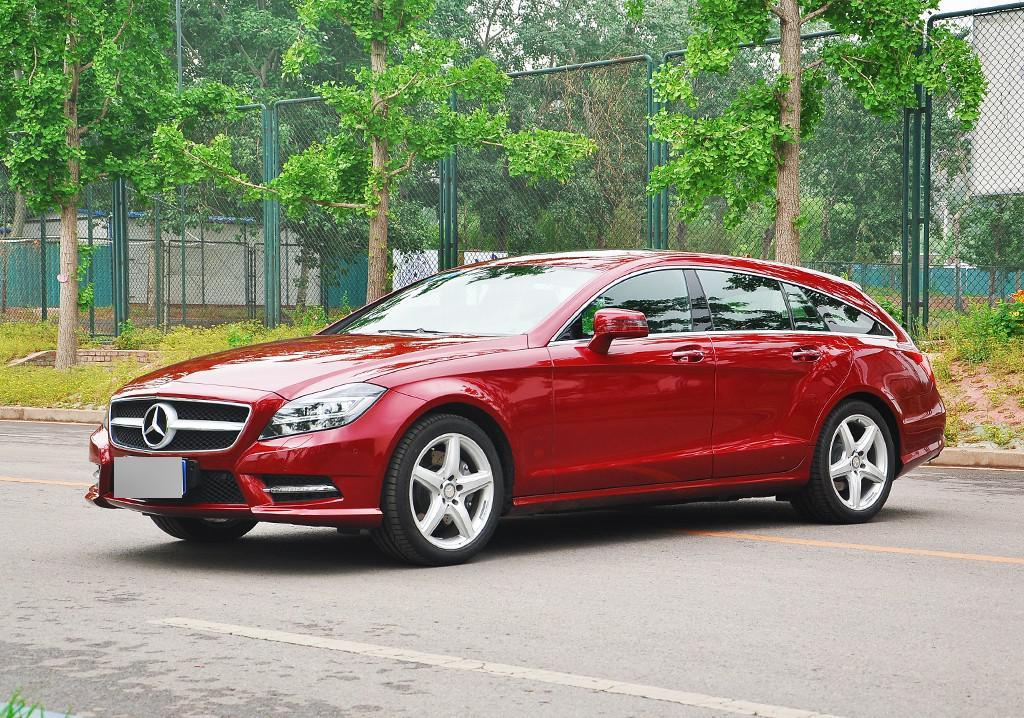Wagon: (84, 249, 946, 565)
